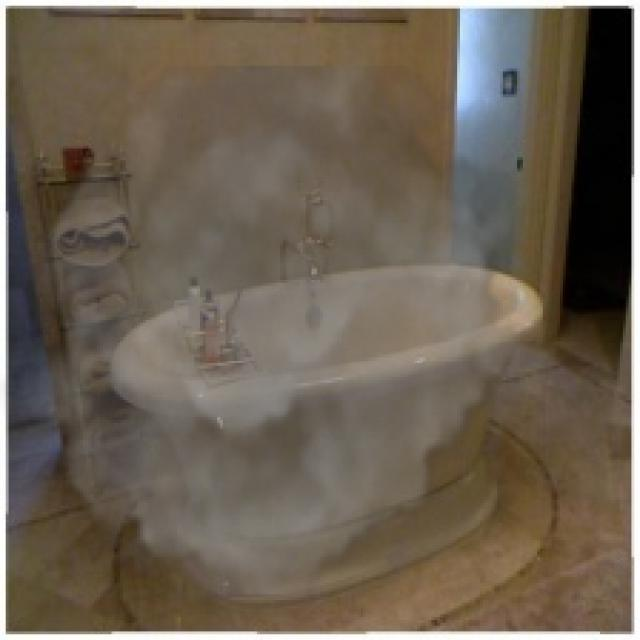Smoke: (0, 65, 543, 598)
